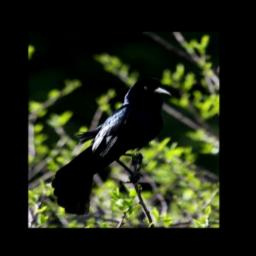Crow: (52, 76, 172, 214)
